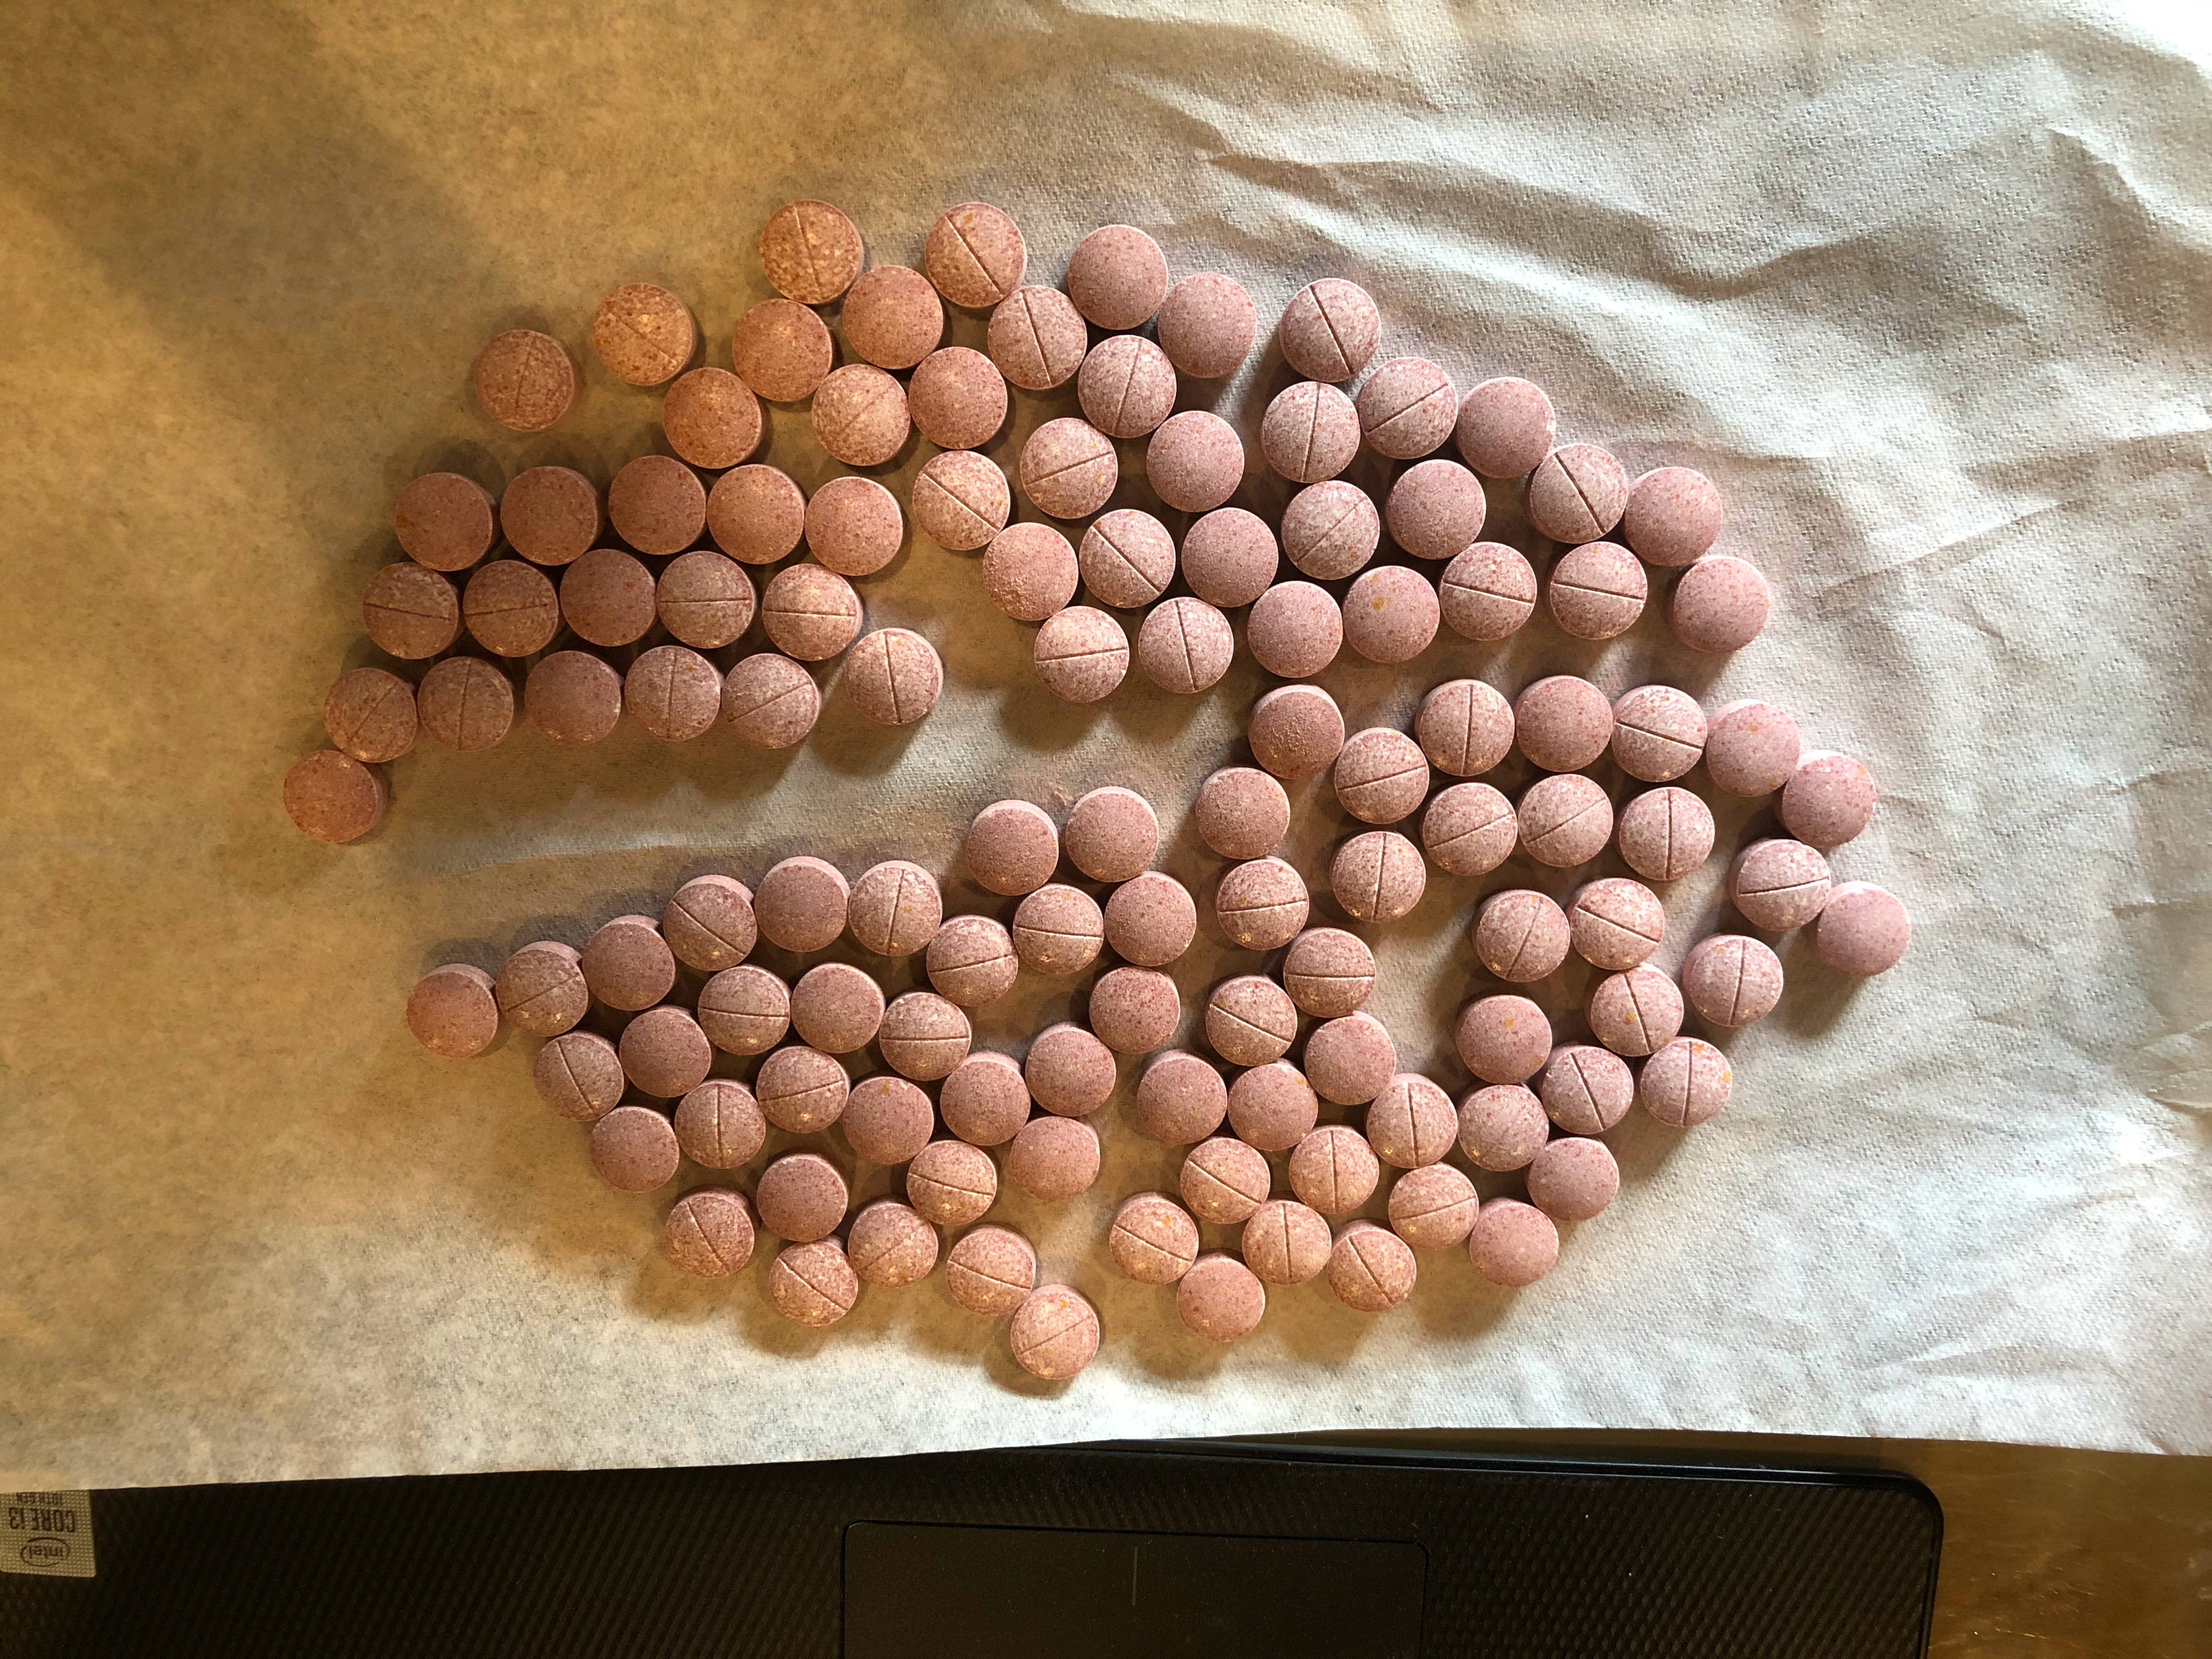tablet: (467, 324, 580, 441), (1273, 272, 1385, 389), (806, 359, 916, 477), (277, 746, 388, 857), (836, 261, 948, 371), (981, 282, 1090, 394), (1258, 378, 1369, 488), (1062, 220, 1170, 333), (1379, 457, 1493, 565), (587, 279, 697, 389), (756, 197, 866, 307), (1015, 411, 1123, 523), (653, 549, 763, 657), (728, 296, 836, 406), (493, 462, 604, 568), (1453, 373, 1559, 484), (385, 469, 500, 572), (1155, 267, 1256, 383), (1139, 404, 1247, 512), (1278, 477, 1386, 586), (1075, 329, 1181, 439), (1728, 835, 1838, 941), (702, 460, 806, 572), (921, 199, 1026, 310), (1702, 694, 1806, 805), (904, 343, 1012, 450), (1240, 577, 1348, 683), (1355, 354, 1461, 462), (1608, 678, 1712, 788), (1177, 502, 1280, 613), (1627, 460, 1728, 573), (838, 626, 948, 728), (1677, 927, 1787, 1030), (1778, 742, 1881, 852), (357, 559, 463, 664), (658, 366, 763, 472), (1076, 509, 1181, 615), (1339, 563, 1446, 667), (1508, 674, 1615, 779), (1566, 868, 1670, 974), (909, 446, 1012, 554), (1630, 1033, 1738, 1136), (1609, 782, 1721, 882), (1547, 537, 1651, 641), (319, 664, 421, 770), (556, 547, 658, 653), (803, 474, 906, 580), (1031, 599, 1134, 706), (1435, 542, 1541, 645), (1329, 721, 1432, 828), (1810, 882, 1918, 983), (523, 648, 627, 751), (622, 643, 725, 748), (1526, 443, 1630, 545), (1670, 552, 1775, 655), (613, 1004, 716, 1108), (1061, 782, 1163, 887), (1583, 962, 1689, 1063), (655, 1190, 763, 1290), (752, 852, 852, 960), (845, 1192, 944, 1300), (606, 455, 709, 558), (846, 857, 949, 960), (1019, 1023, 1122, 1126), (1139, 592, 1240, 697), (758, 563, 864, 662), (719, 652, 822, 753), (1007, 884, 1111, 983), (1097, 870, 1204, 967), (1129, 1053, 1235, 1150), (996, 1115, 1106, 1209), (982, 521, 1083, 622), (1245, 683, 1346, 784), (1420, 779, 1521, 880), (1472, 885, 1573, 986), (413, 657, 516, 756), (665, 873, 765, 976), (1418, 676, 1517, 779), (1512, 770, 1615, 870), (406, 964, 505, 1065), (1083, 960, 1183, 1061), (1204, 974, 1303, 1075), (1193, 762, 1294, 861), (1212, 854, 1313, 953), (1278, 924, 1379, 1023), (961, 800, 1064, 897), (1301, 1012, 1400, 1112), (460, 559, 561, 657), (1331, 830, 1432, 927), (1106, 1190, 1204, 1290), (1172, 1251, 1271, 1349), (1223, 1060, 1322, 1157), (1008, 1284, 1104, 1385), (693, 962, 796, 1056), (873, 988, 975, 1082), (1324, 1220, 1421, 1317), (493, 941, 592, 1037), (765, 1239, 864, 1335), (902, 1136, 1001, 1232), (927, 915, 1026, 1011), (1540, 1044, 1639, 1140), (1468, 1194, 1562, 1295), (1453, 995, 1554, 1089), (583, 913, 679, 1011), (840, 1075, 937, 1171), (941, 1051, 1036, 1148), (1238, 1197, 1338, 1291), (1287, 1124, 1386, 1218), (756, 1042, 852, 1138), (1385, 1164, 1480, 1260), (671, 1077, 768, 1171), (944, 1225, 1042, 1319), (1177, 1131, 1271, 1229), (1366, 1072, 1460, 1169), (529, 1033, 629, 1126), (791, 962, 887, 1053), (752, 1154, 850, 1243), (1456, 1080, 1550, 1171), (585, 1107, 683, 1192), (1529, 1138, 1620, 1225)
